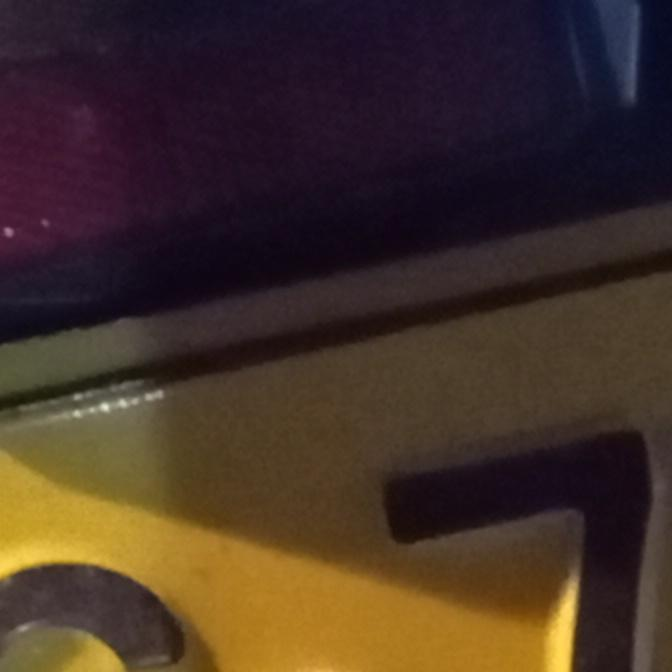plates: (0, 199, 672, 672)
